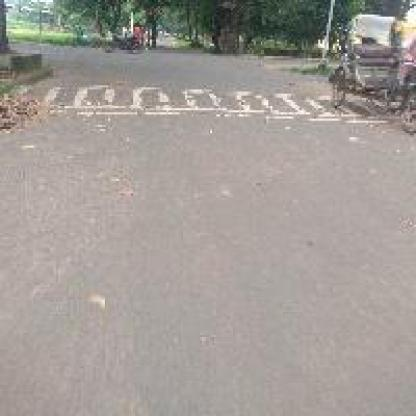Speed Bump: (37, 83, 333, 110)
